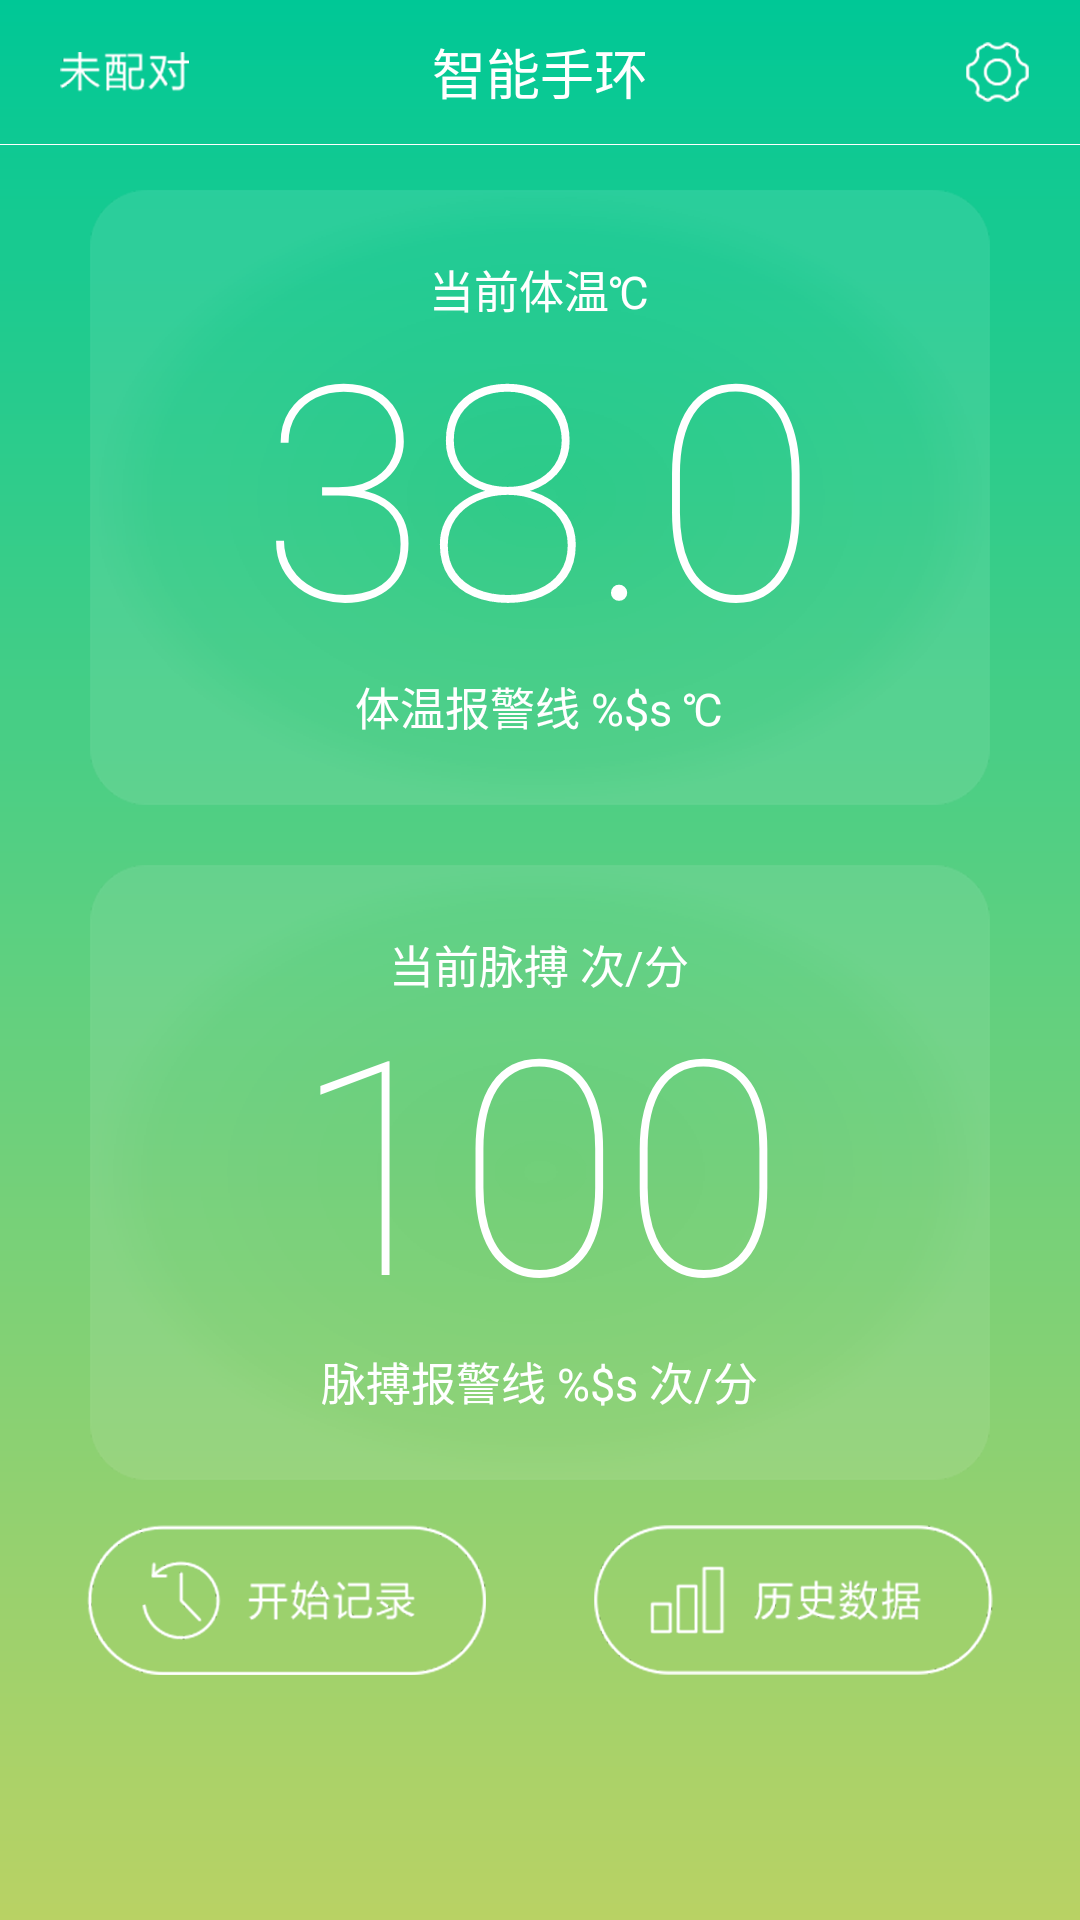

Named icons in this screenshot (1080px x 1920px) and their centers, [x,y]:
homepage set: [997,72]
